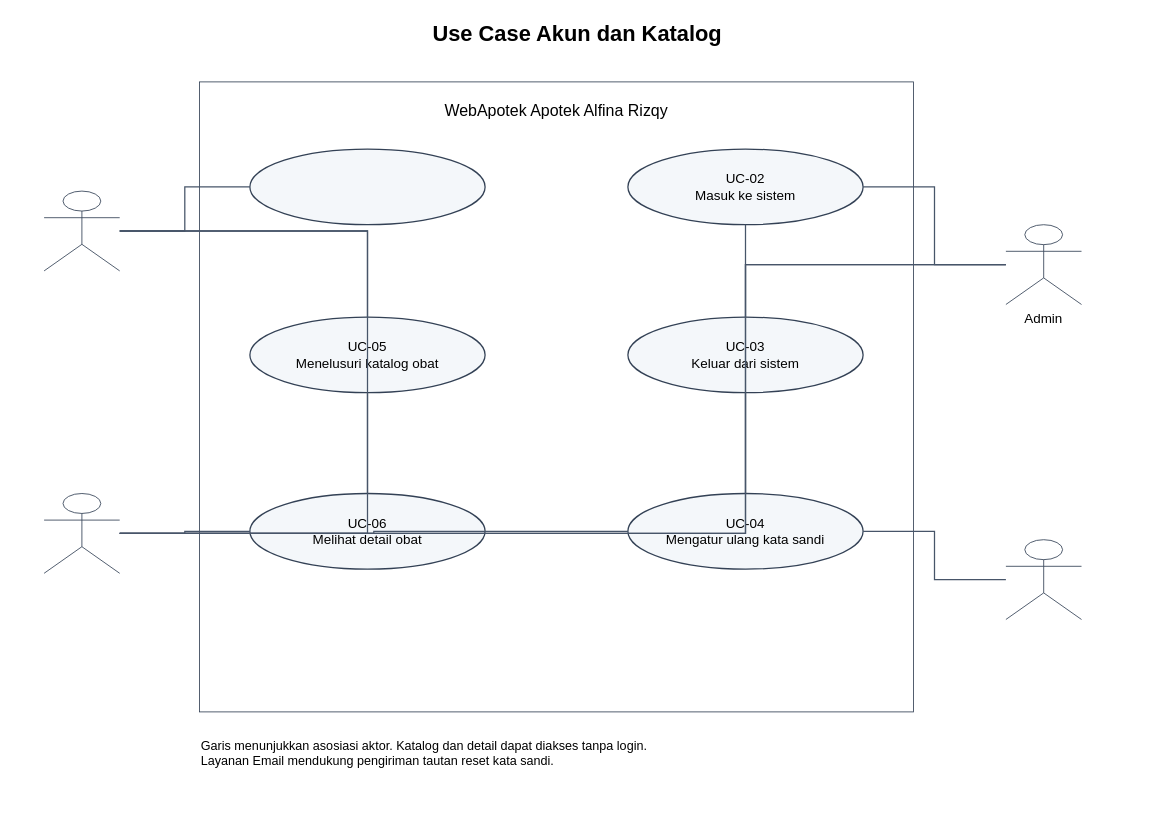
Image size: 1154x814. Some labels were removed from this diagram. The shapes that lost their labels are listed below. From the top down, each one's centre as x and y in pixels, then its label:
At (367,186): "UC-01 Mendaftar akun".
At (81,230): "Pengunjung".
At (81,533): "Pelanggan".
At (1043,579): "Layanan Email".
